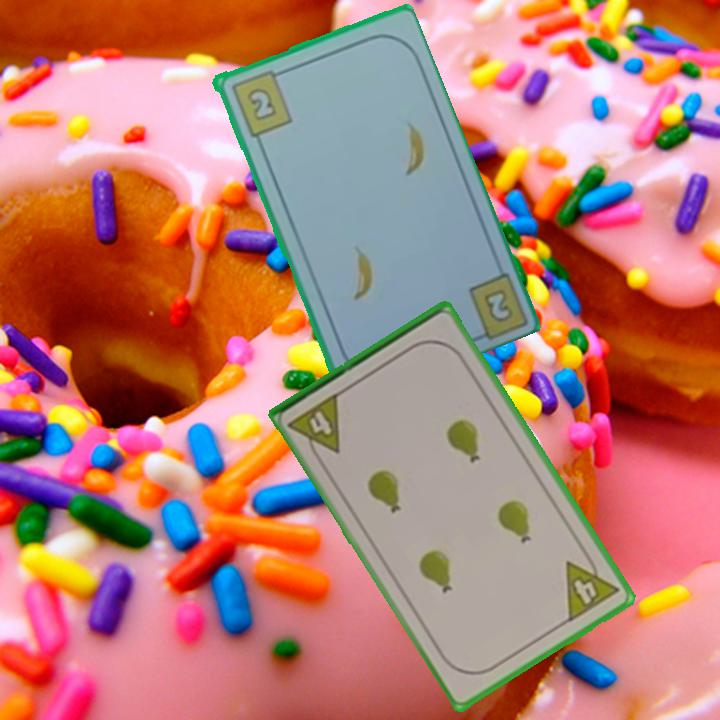2b: (227, 66, 295, 139), (479, 285, 512, 326)
4p: (562, 547, 622, 625), (285, 389, 344, 465)
